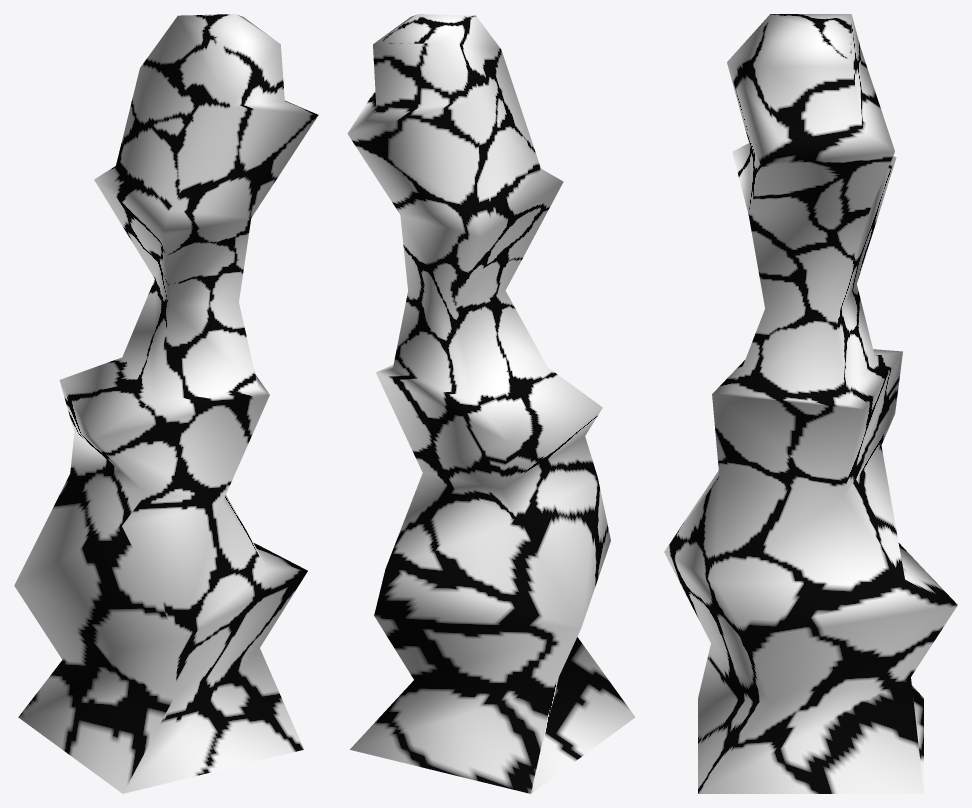
Rendered from Stone_04_08.fbx.
3 views of the same model, side by side, from view 1: azimuth 30°, elevation 25°; view 2: azimuth 150°, elevation 25°; view 3: azimuth 270°, elevation 25° (orthographic). The views are drawn at different scales.
Visible parts, largest first — view 1: Stone_04_08; view 2: Stone_04_08; view 3: Stone_04_08.
Boxes of the visible parts, x1,y1,x2,y2 form: Stone_04_08: (14, 14, 318, 793); Stone_04_08: (347, 14, 635, 793); Stone_04_08: (664, 14, 957, 793).
Bounding box in the file's own units: 5.06 × 13.44 × 4.73.
